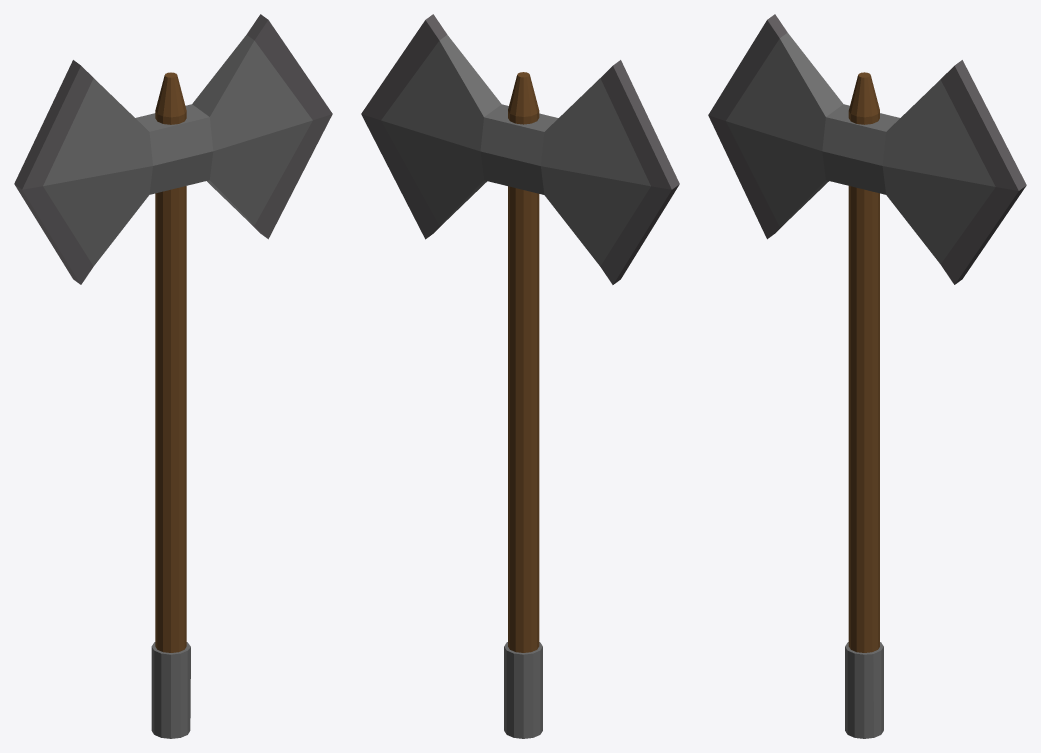
The model's file is doubleheadaxe.fbx.
3 views of the same model, side by side, from view 1: azimuth 30°, elevation 25°; view 2: azimuth 150°, elevation 25°; view 3: azimuth 330°, elevation 25° (orthographic).
Parts seen in each view (by area): view 1: Plane; view 2: Plane; view 3: Plane.
Boxes of the visible parts, x1=… form: Plane: x1=14, y1=14, x2=332, y2=738; Plane: x1=361, y1=14, x2=679, y2=738; Plane: x1=708, y1=14, x2=1026, y2=738.
Bounding box in the file's own units: 798 × 1696 × 111.
